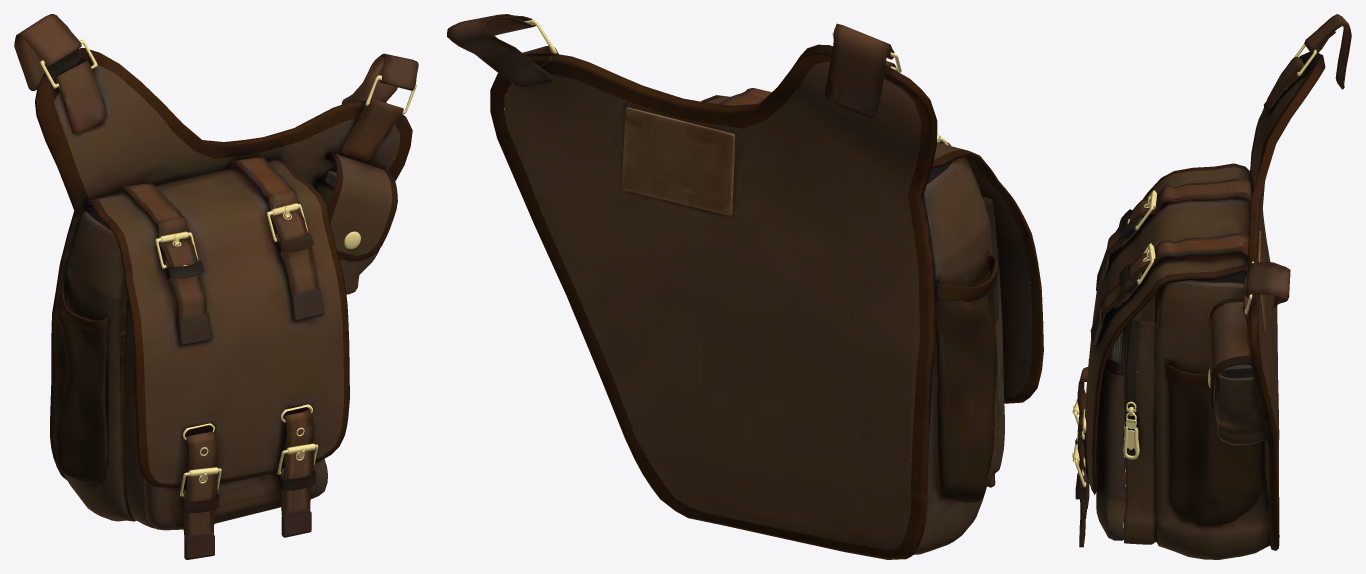
The model's file is charge-satchel.glb.
3 renders of one model, left to right at view 1: azimuth 30°, elevation 25°; view 2: azimuth 150°, elevation 25°; view 3: azimuth 270°, elevation 25°, orthographic. The views are drawn at different scales.
Visible parts, largest first — view 1: g (×20); view 2: g (×9); view 3: g (×17).
Part boxes in pixels (<box>): g (×20): <box>14,14,418,559</box>; g (×9): <box>447,14,1043,559</box>; g (×17): <box>1077,14,1351,559</box>.
Bounding box in the file's own units: 1.81 × 2 × 1.1.
Materials: 11 (11 with a texture image).
